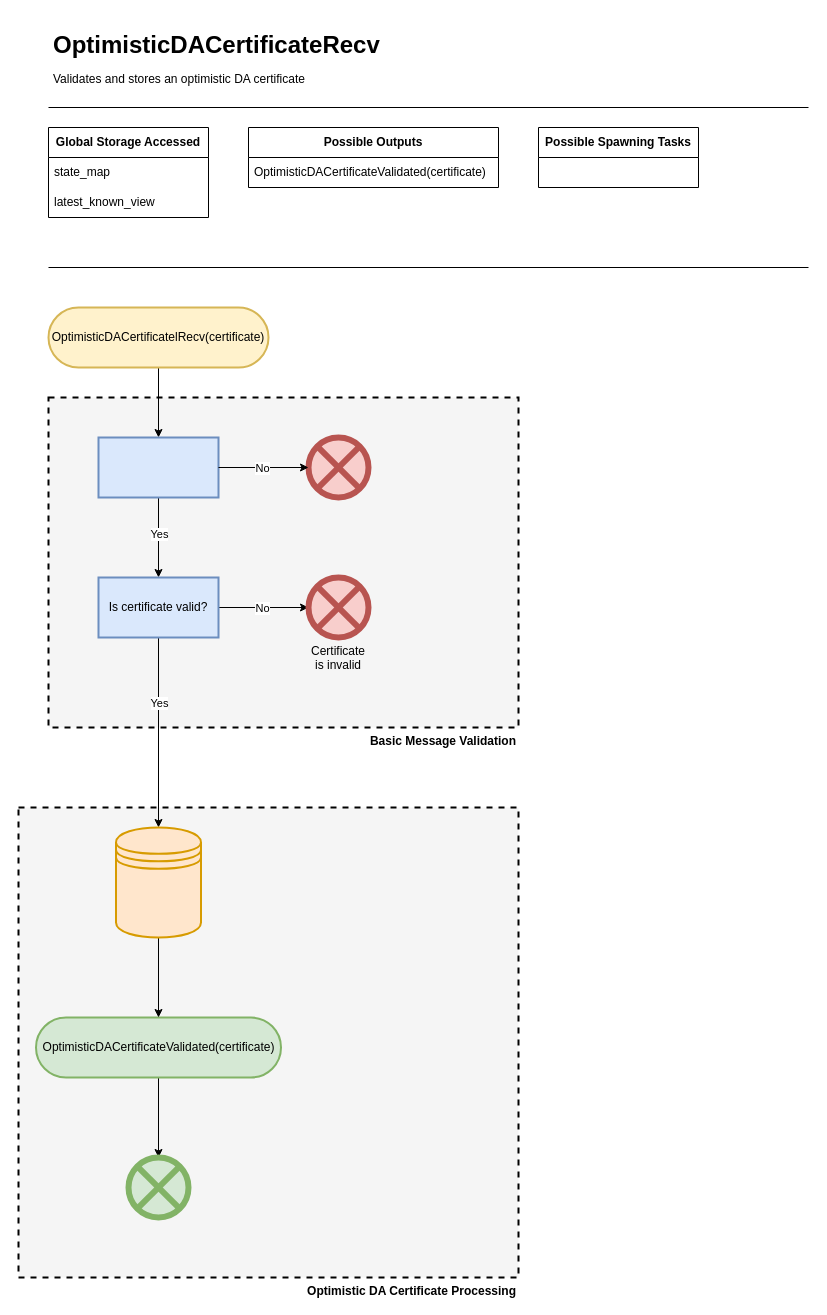
Image size: 827x1315. Some labels were removed from this diagram. Each missing label, with the centre of its shape:
"Certificate is too old" belongs at (x=338, y=467).
"Certificate is valid" belongs at (x=158, y=1187).
"Is the certificate's view greater than or equal to our latest known view?" belongs at (x=158, y=467).
"Store Optimistic DA Cert in state map" belongs at (x=158, y=882).
